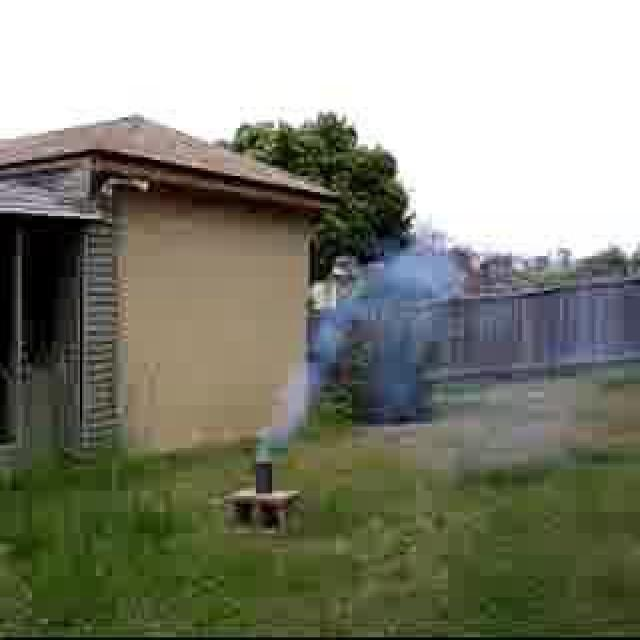smoke: (220, 237, 464, 463)
